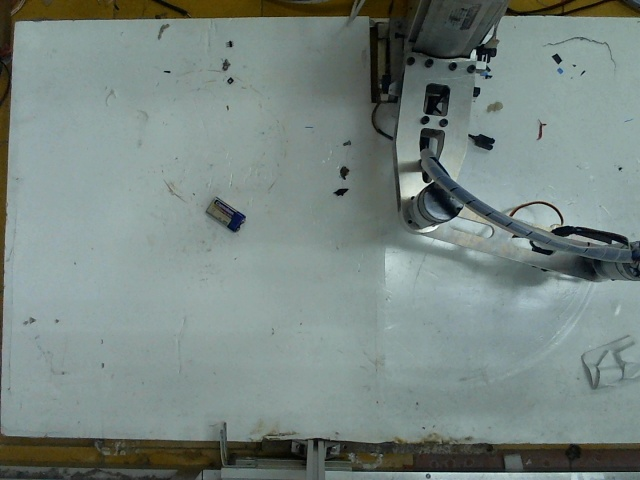battery: (205, 194, 248, 229)
